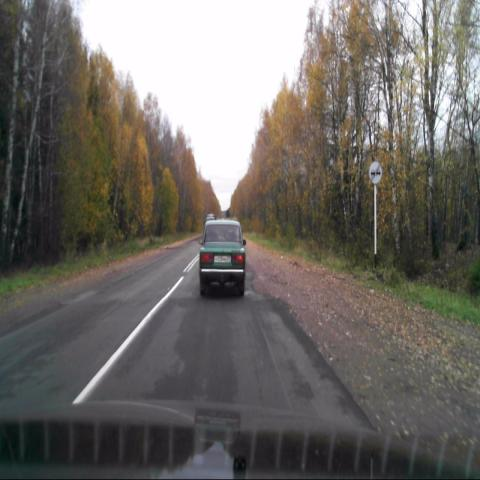3_21: (369, 160, 382, 184)
